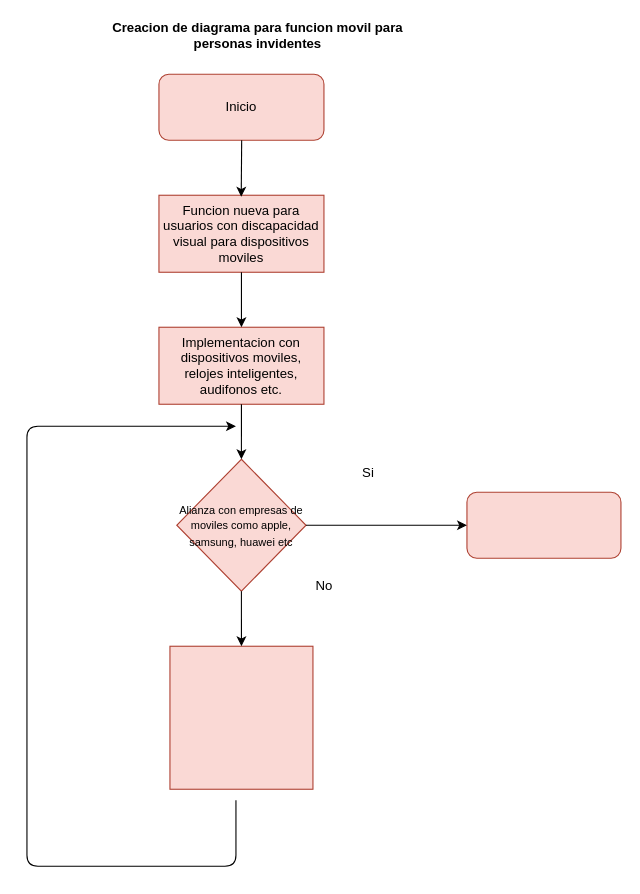
The diagram is 640 pixels wide and 894 high, and some of its shapes have lost their labels. Each missing label, with the box of its shape:
Fin: (466, 491, 621, 558)
Lanzar la funcion como aplicacion movil o dispositivo fisico: (169, 645, 313, 789)
